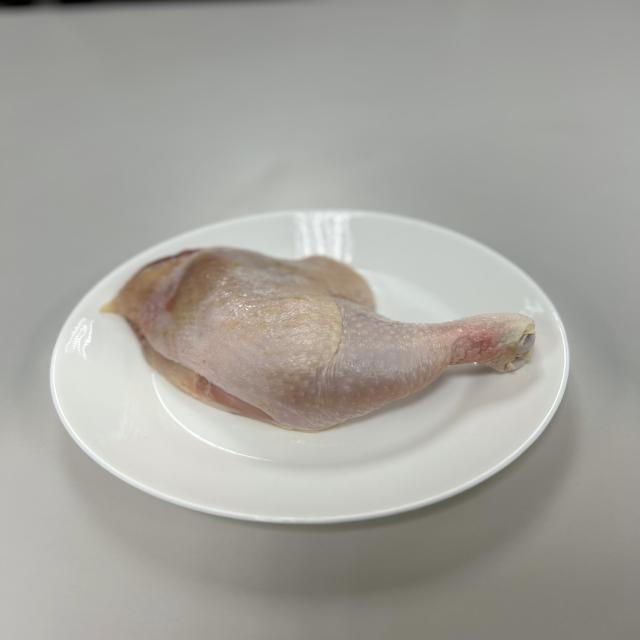quater: (133, 244, 533, 420)
